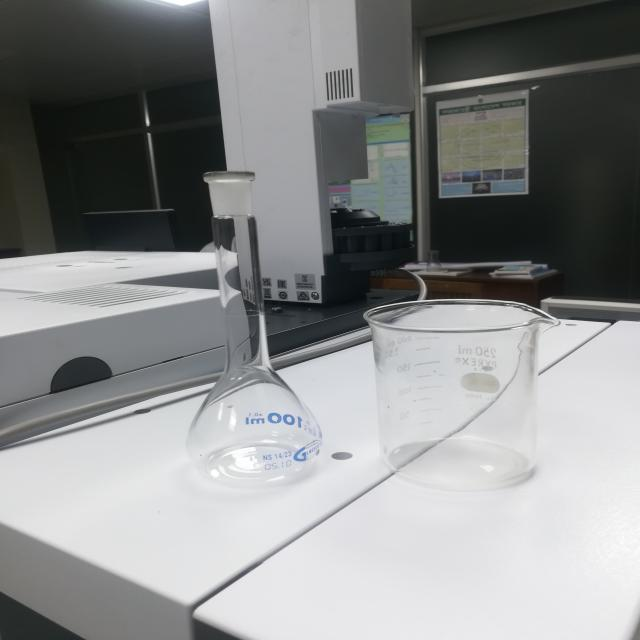Beaker: (351, 279, 593, 502)
Volumetric_Flask: (151, 151, 340, 504)
